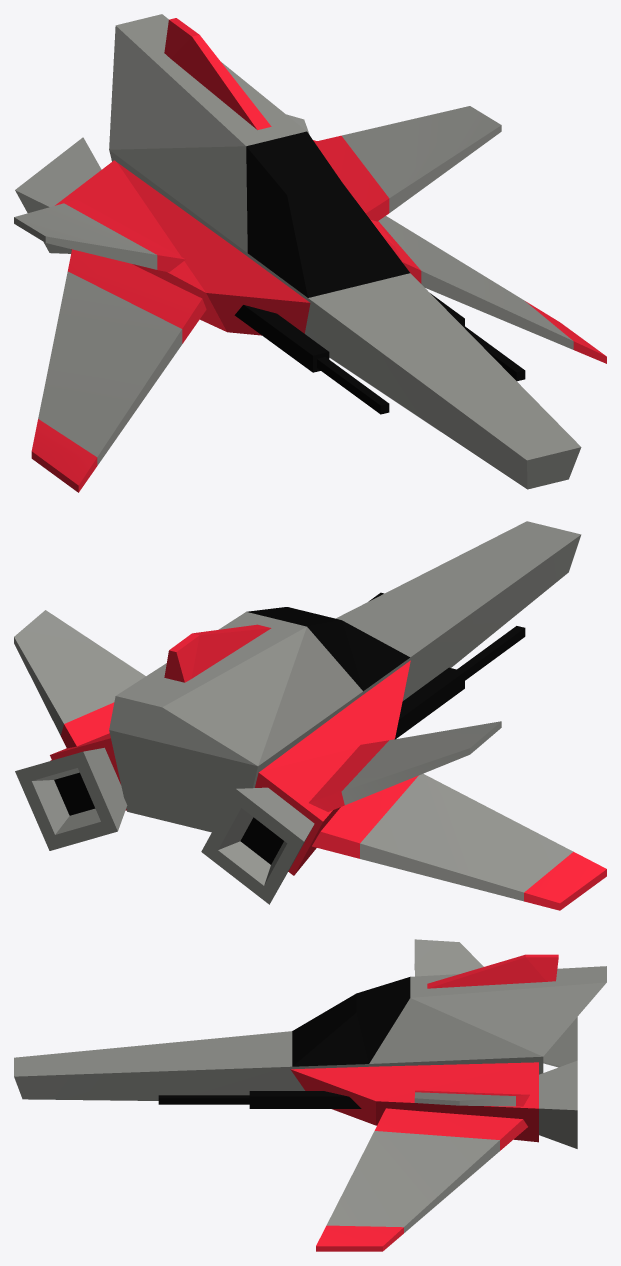
Rendered from chopper.obj.
3 renders of one model, top to bottom at view 1: azimuth 30°, elevation 25°; view 2: azimuth 150°, elevation 25°; view 3: azimuth 270°, elevation 25°, orthographic. The views are drawn at different scales.
Visible parts, largest first — view 1: Lo_poly_Spaceship_05_by_Liz_Reddington; view 2: Lo_poly_Spaceship_05_by_Liz_Reddington; view 3: Lo_poly_Spaceship_05_by_Liz_Reddington.
Part boxes in pixels (bbox=[...]): Lo_poly_Spaceship_05_by_Liz_Reddington: bbox=[14, 14, 606, 492]; Lo_poly_Spaceship_05_by_Liz_Reddington: bbox=[14, 521, 606, 910]; Lo_poly_Spaceship_05_by_Liz_Reddington: bbox=[14, 939, 606, 1251].
Size of the model in its own units: 466 by 240 by 634.
Materials: 3 (3 with a texture image).
